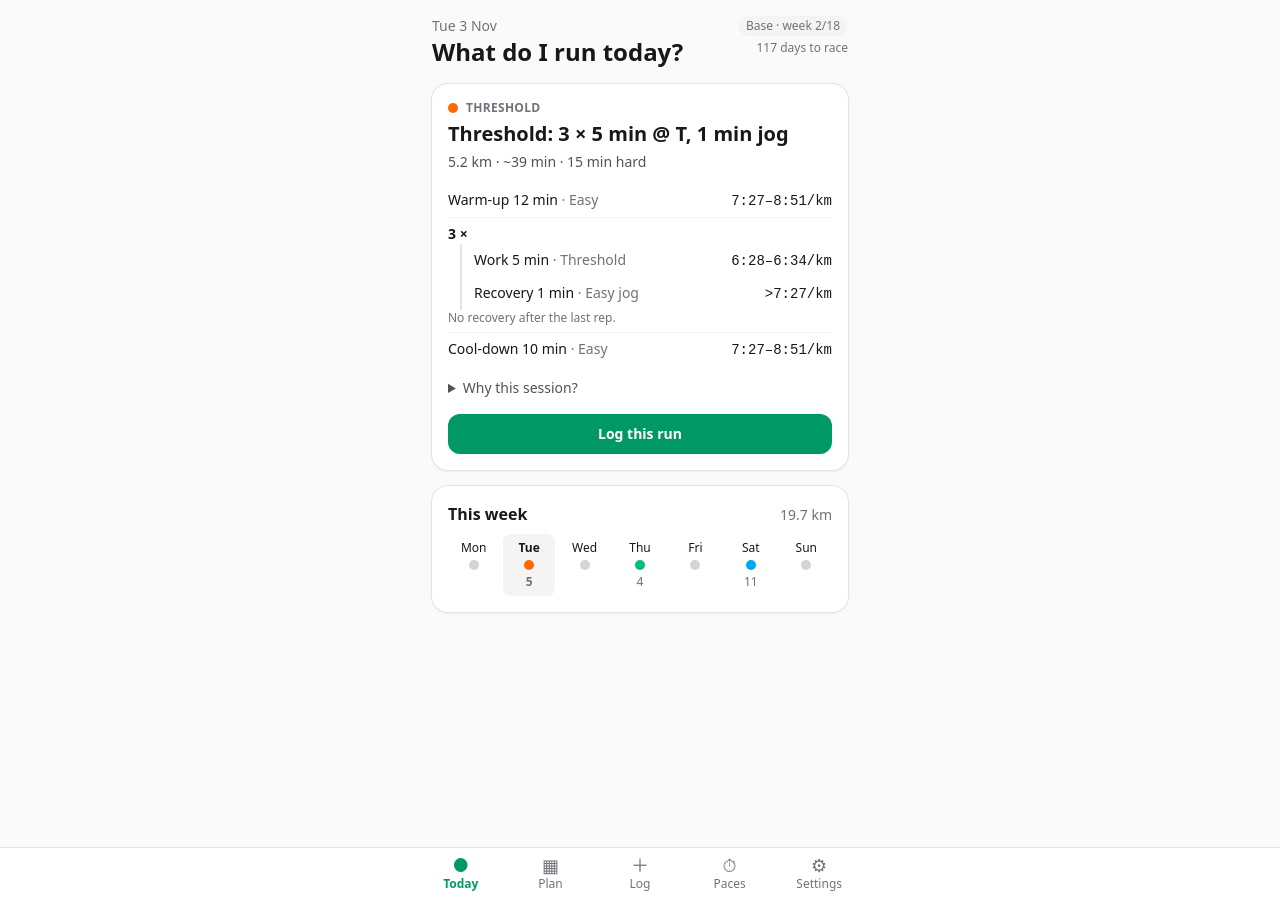
other screens › lists every week and expands the current one
Click the button "▦ Plan". click: (550, 874)
box: [506,848,595,899]
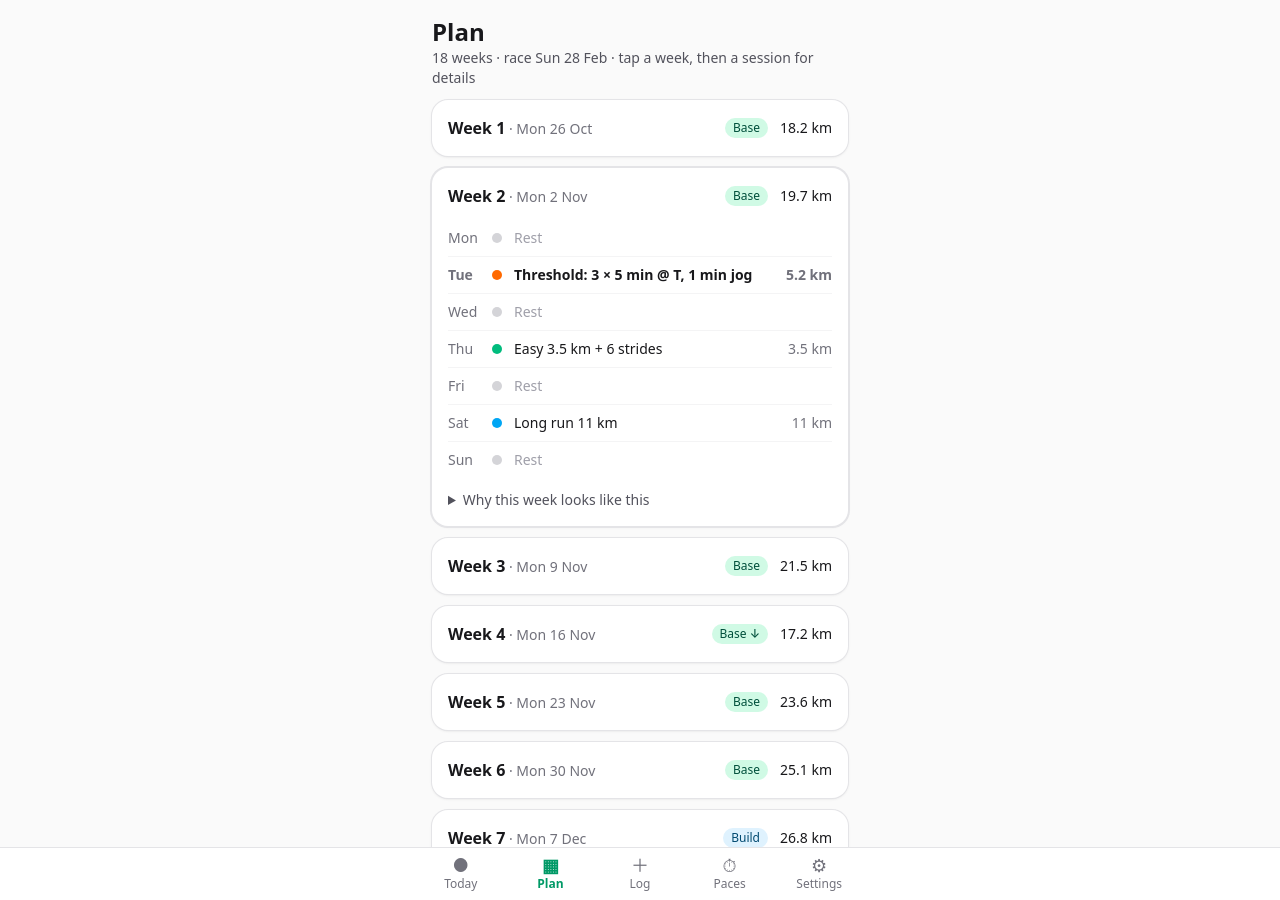
Expected: the number of buttons "Week 1 · Mon 26 Oct Base 18.2 km" is 18
